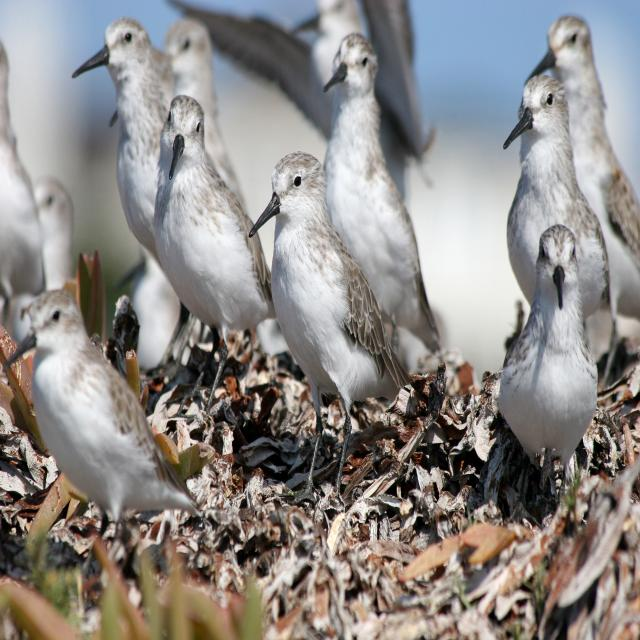bird: (245, 147, 398, 512), (14, 297, 206, 537), (321, 33, 438, 387), (152, 100, 274, 384), (502, 215, 601, 515), (542, 19, 640, 296), (507, 81, 609, 340), (68, 29, 164, 238), (159, 5, 218, 114)
